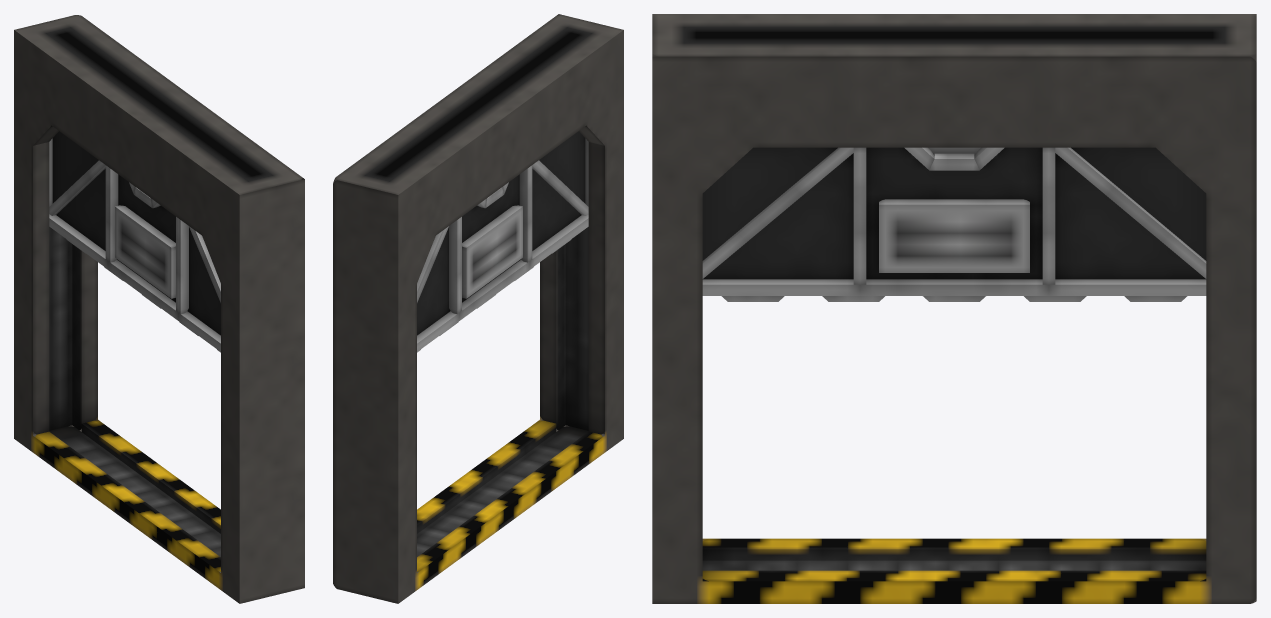
The model's file is qe_containment_107.obj.
The picture shows the model from 3 angles, left to right: view 1: azimuth 30°, elevation 25°; view 2: azimuth 150°, elevation 25°; view 3: azimuth 270°, elevation 25°; orthographic projection. The views are drawn at different scales.
Visible parts, largest first — view 1: Frame, Door; view 2: Frame, Door; view 3: Frame, Door.
Part boxes in pixels (x1,y1,x2,y2): Frame: [14, 15, 304, 603]; Door: [49, 131, 220, 352]; Frame: [333, 14, 623, 603]; Door: [417, 131, 588, 352]; Frame: [652, 14, 1256, 603]; Door: [702, 147, 1206, 301].
Size of the model in its own units: 0.5 by 3 by 3.
